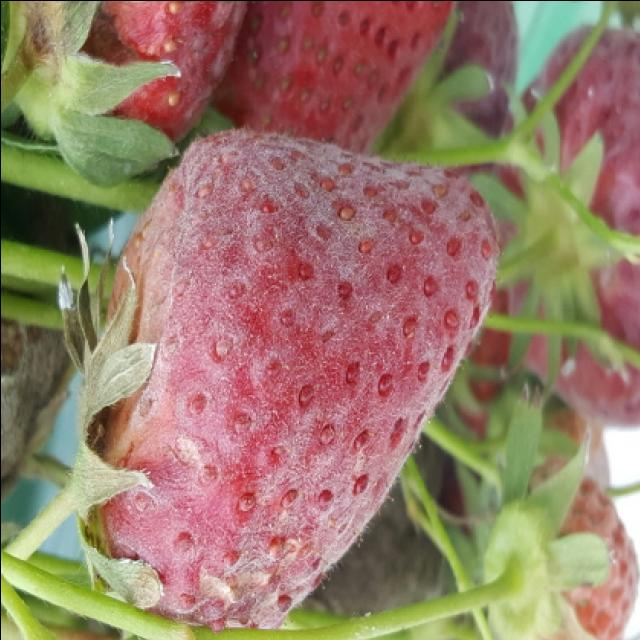Powdery Mildew Fruit: (77, 129, 502, 631), (27, 2, 247, 177)
